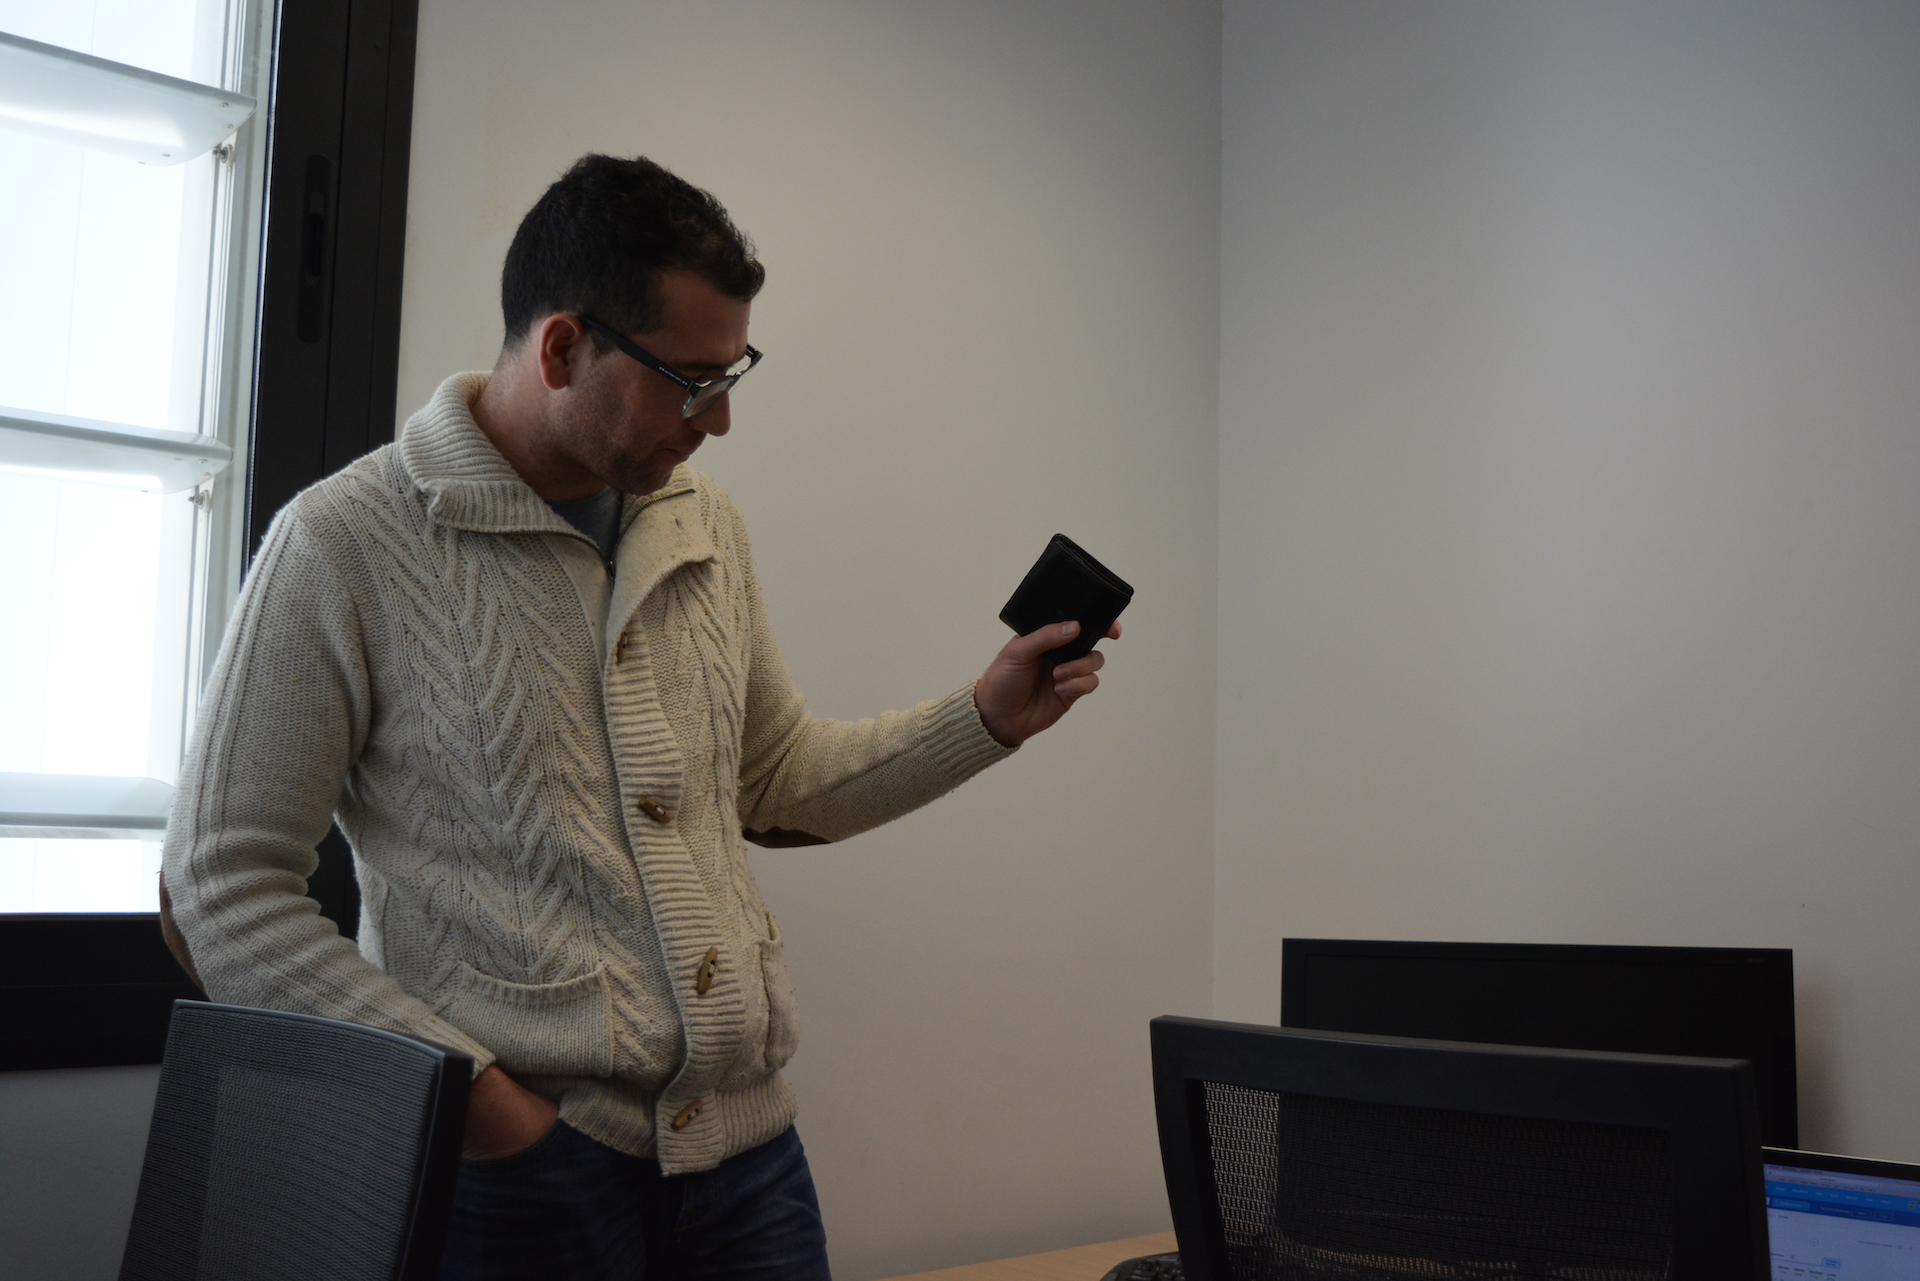monedero: (996, 530, 1137, 666)
